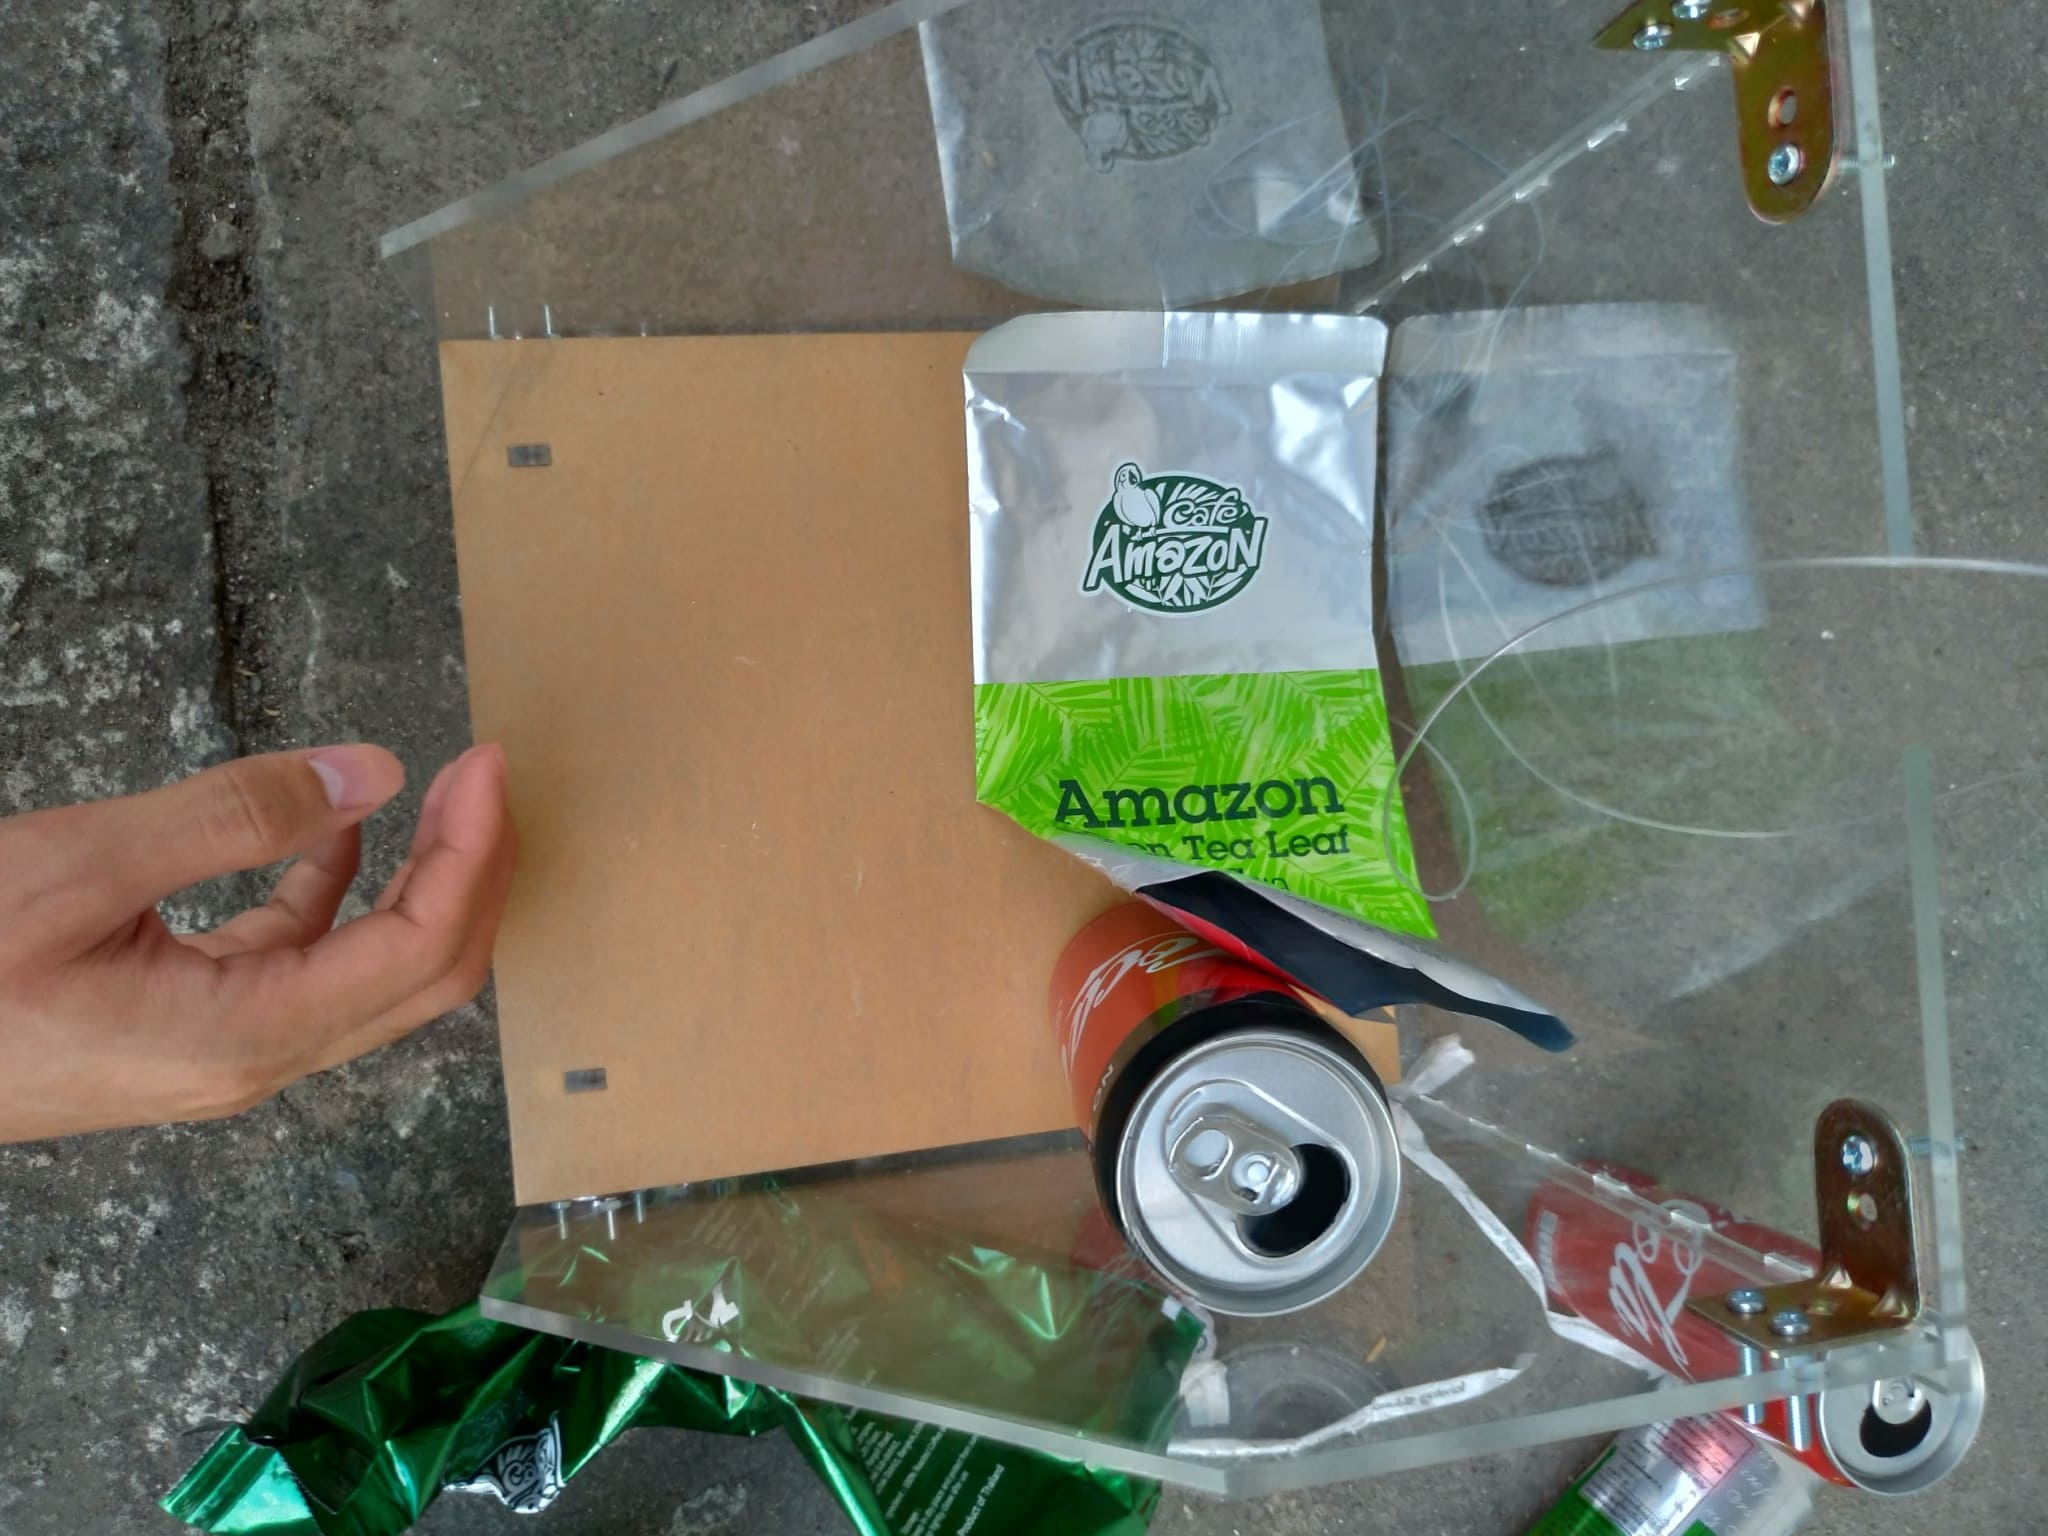AlCan: (1529, 1158, 1983, 1492), (1056, 895, 1406, 1326), (1516, 1405, 1808, 1536)
Others: (959, 310, 1564, 1034), (168, 1184, 1184, 1536)
